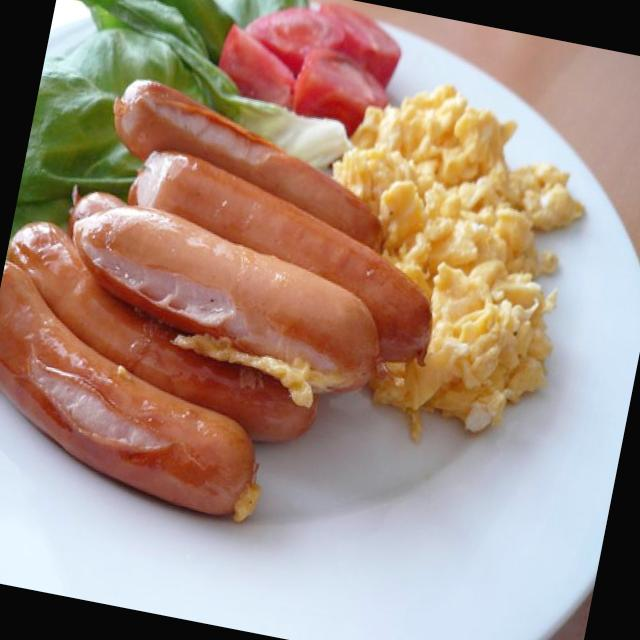Sausage: (0, 47, 487, 566)
